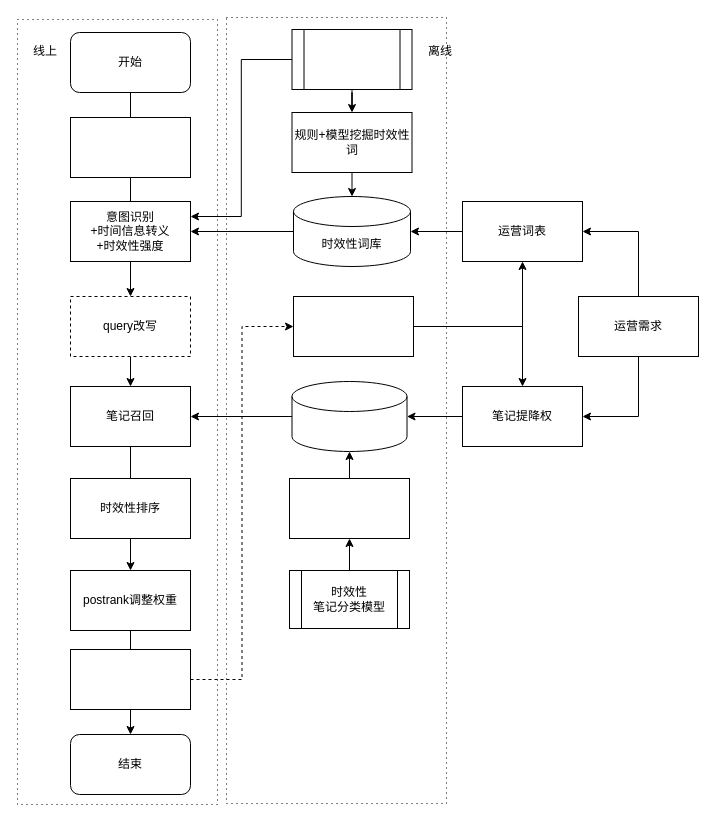
Image size: 716x822. Some labels were removed from this diagram. The centre of each missing label's shape, as x and y in pixels:
"时效性 query分类模型" goes at [351,59].
"时效性判断" goes at [349,508].
"曝光" goes at [130,679].
"笔记" goes at [349,416].
"请求" goes at [130,147].
"负反馈" goes at [353,326].
